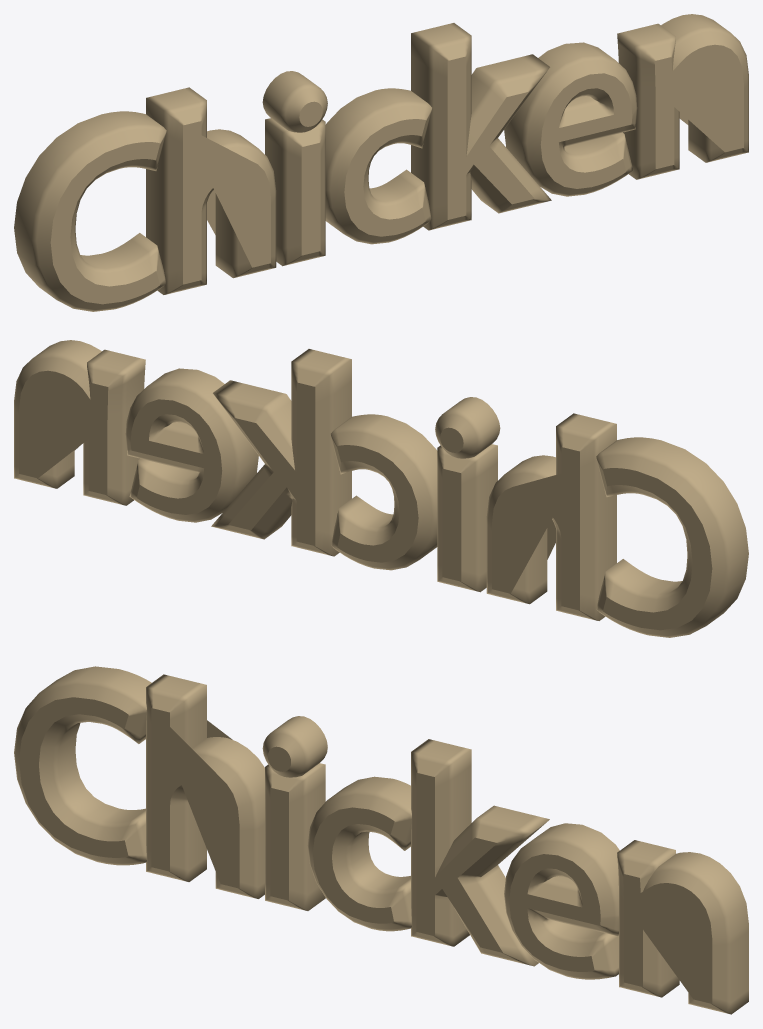
Rendered from chicken.fbx.
3 renders of one model, top to bottom at view 1: azimuth 30°, elevation 25°; view 2: azimuth 150°, elevation 25°; view 3: azimuth 330°, elevation 25°, orthographic.
Visible parts, largest first — view 1: bevelPolygon3, bevelPolygon2, bevelPolygon8, bevelPolygon11, bevelPolygon12, bevelPolygon7, bevelPolygon5, bevelPolygon6; view 2: bevelPolygon3, bevelPolygon2, bevelPolygon8, bevelPolygon11, bevelPolygon12, bevelPolygon7, bevelPolygon5, bevelPolygon6; view 3: bevelPolygon3, bevelPolygon11, bevelPolygon8, bevelPolygon2, bevelPolygon12, bevelPolygon7, bevelPolygon5, bevelPolygon6.
Boxes of the visible parts, <box> form: bevelPolygon3: <box>146,87,276,294</box>; bevelPolygon2: <box>14,111,166,311</box>; bevelPolygon8: <box>411,23,551,230</box>; bevelPolygon11: <box>617,14,748,179</box>; bevelPolygon12: <box>504,42,637,196</box>; bevelPolygon7: <box>325,88,431,244</box>; bevelPolygon5: <box>265,118,325,266</box>; bevelPolygon6: <box>262,71,327,132</box>; bevelPolygon3: <box>486,413,616,620</box>; bevelPolygon2: <box>596,437,748,637</box>; bevelPolygon8: <box>211,349,351,556</box>; bevelPolygon11: <box>14,340,145,505</box>; bevelPolygon12: <box>125,368,258,522</box>; bevelPolygon7: <box>331,414,437,570</box>; bevelPolygon5: <box>437,444,497,592</box>; bevelPolygon6: <box>435,397,500,458</box>; bevelPolygon3: <box>146,674,264,898</box>; bevelPolygon11: <box>617,840,748,1014</box>; bevelPolygon8: <box>411,739,549,966</box>; bevelPolygon2: <box>14,666,151,865</box>; bevelPolygon12: <box>504,823,619,979</box>; bevelPolygon7: <box>307,776,411,931</box>; bevelPolygon5: <box>265,763,325,910</box>; bevelPolygon6: <box>262,716,327,777</box>.
Bounding box in the file's own units: 5.91 × 1.47 × 0.45.
